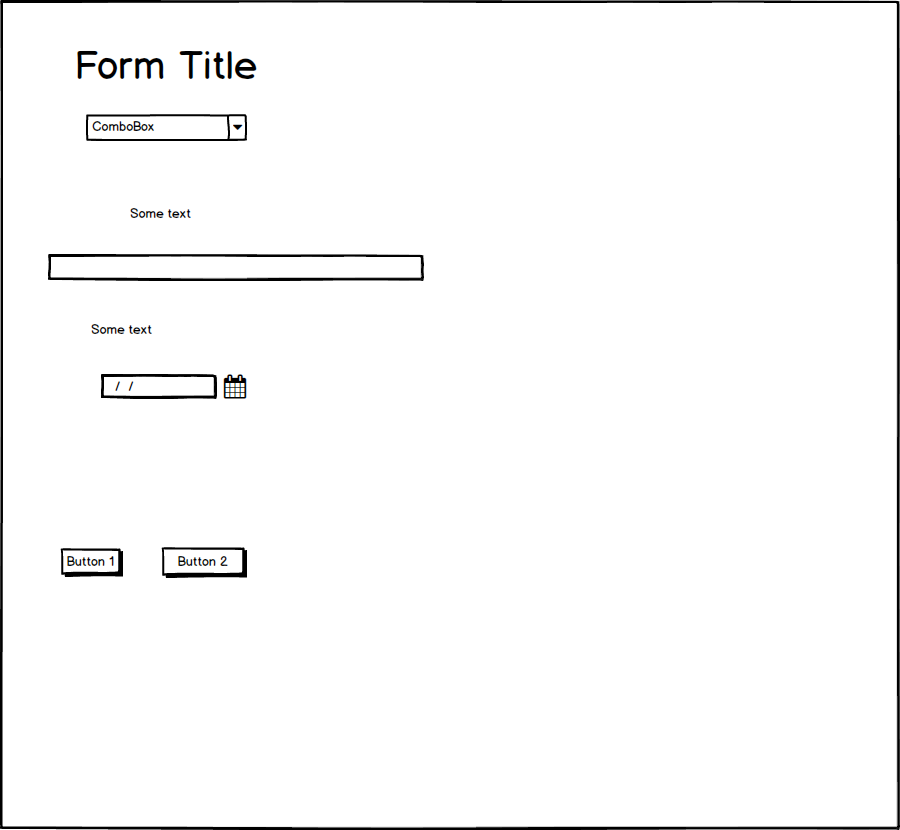button: (155, 540, 250, 581), (55, 543, 127, 581)
date_picker: (93, 367, 258, 411)
h1: (69, 43, 260, 86)
input: (39, 248, 431, 287)
label: (122, 201, 202, 225), (79, 319, 160, 339)
select_box: (82, 109, 256, 150)
